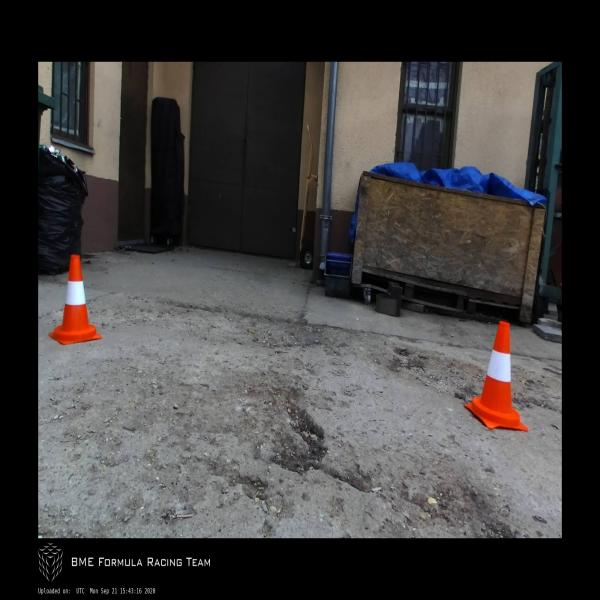orange_cone: (464, 320, 529, 433), (48, 254, 101, 346)
